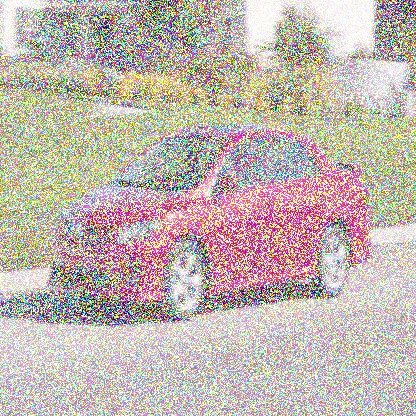Vehicle: (43, 120, 379, 322)
